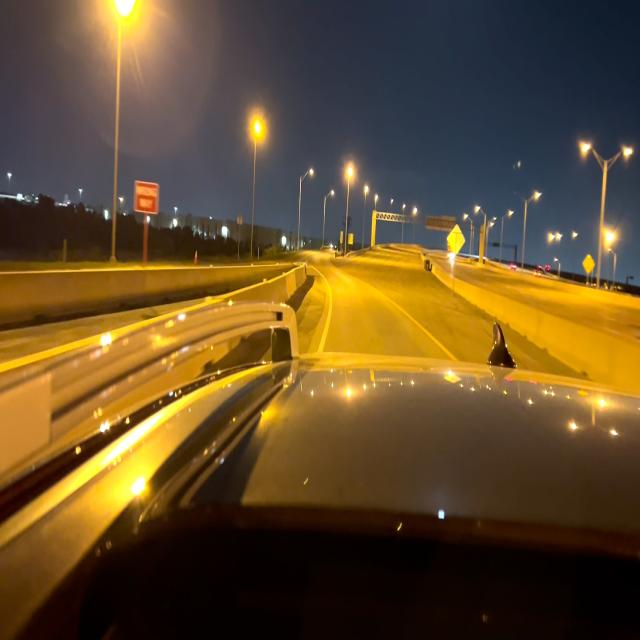back-of-sign: (447, 224, 466, 257)
